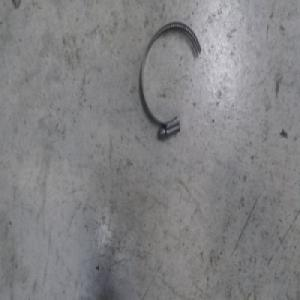AdjustableClamp: (138, 21, 201, 140)
